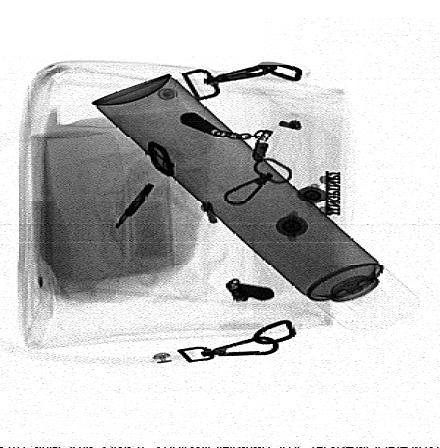Sprayer: (91, 73, 421, 332)
